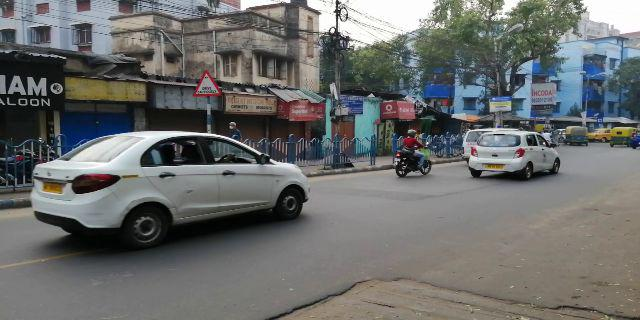Car: (41, 131, 311, 246), (471, 130, 557, 182)
Motorbike: (390, 130, 437, 178)
